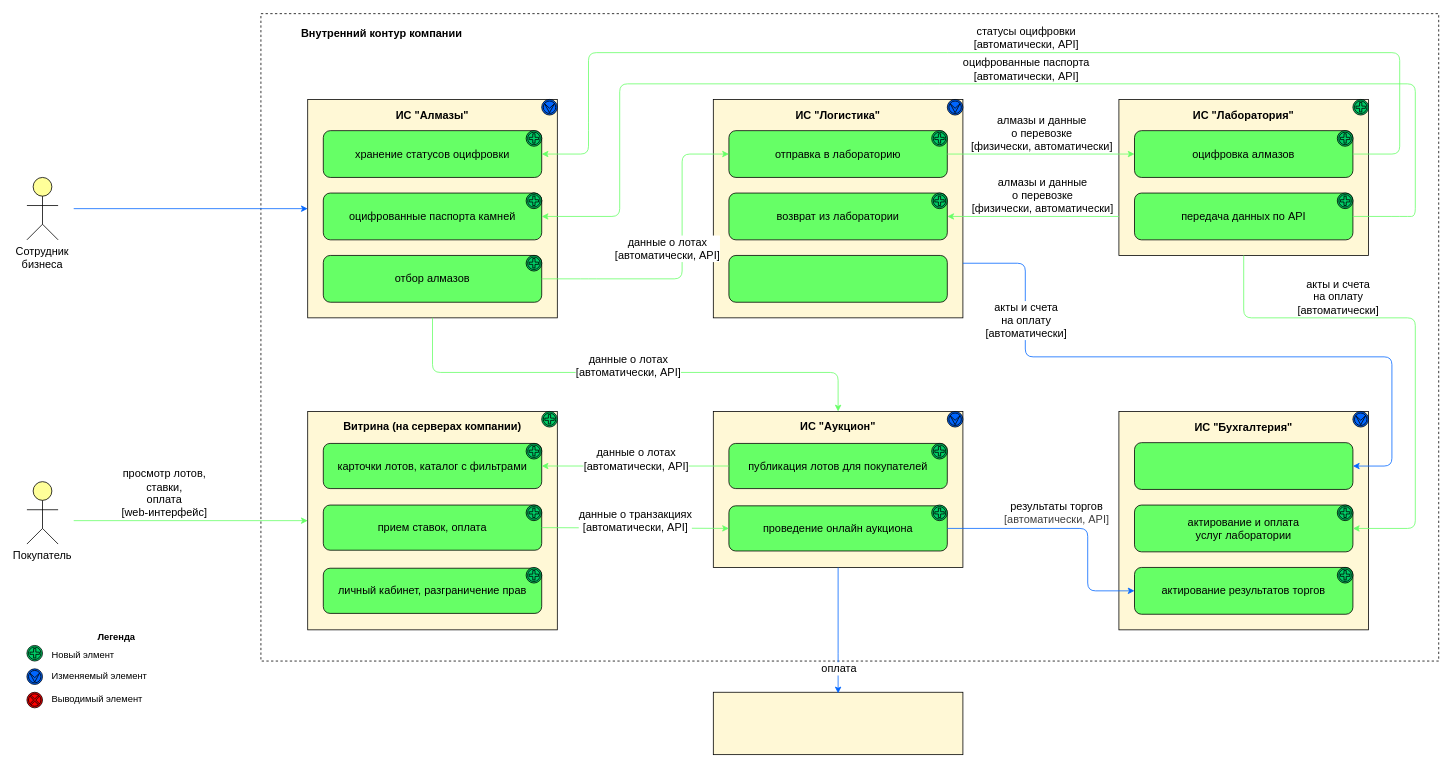
This 1452x768 diagram has some shape labels left out. Each missing label, with the centre of its shape:
актирование и оплата услуг перевозчика: the point at 1243,465
Внешний платёжный шлюз: the point at 838,723
доставка покупателям: the point at 837,278
